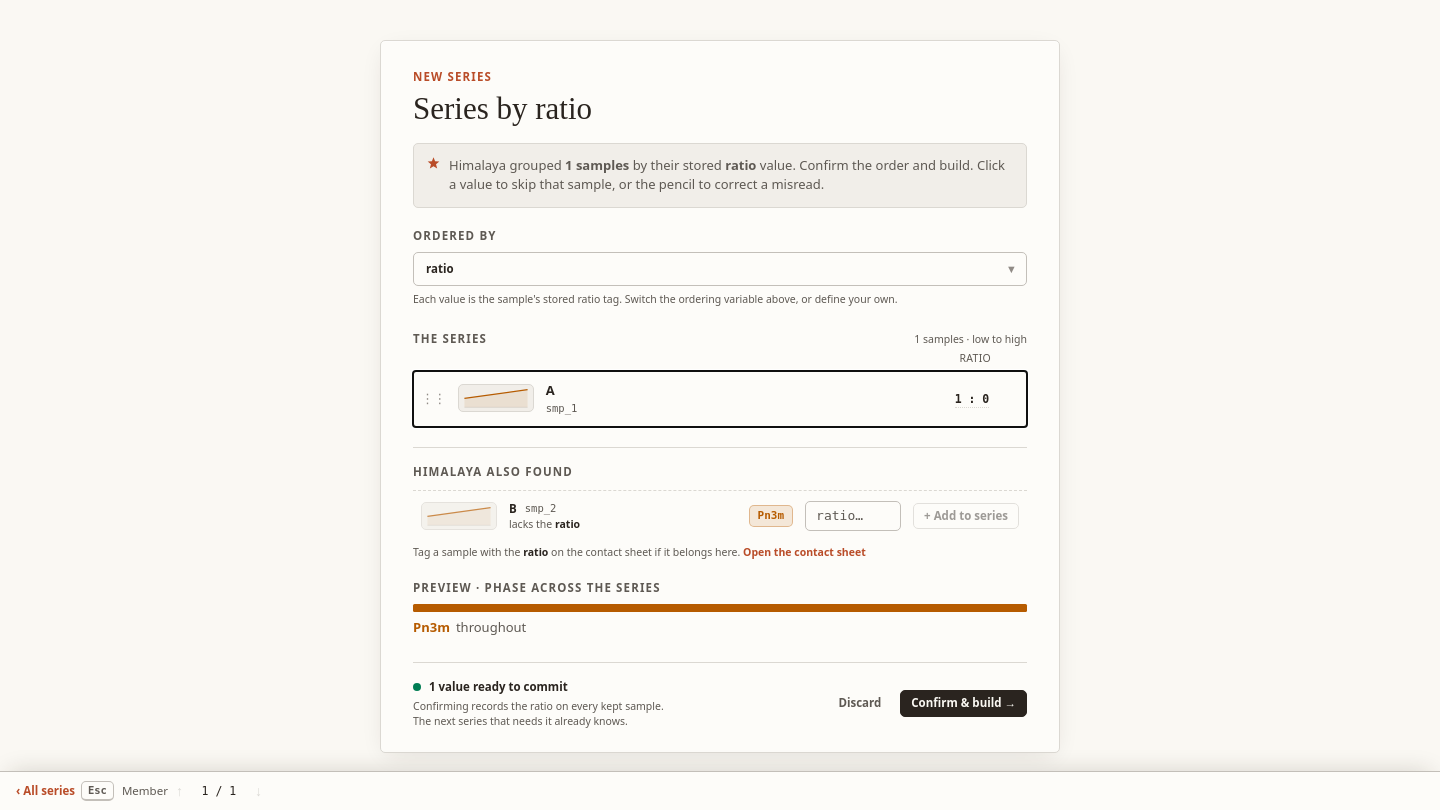
Scenario: SeriesScopingPage › renders candidates as informational discovery with no add control
Expected: the number of elements with test id "scope-sample-row" is 1, [413,371,1027,427]
Expected: the button "+ Add to series" is disabled, [913,503,1019,529]
Note: Naming a value folds B into the members.
Type "1 : 2" into the field named "value for B". click: coordinates (853, 516)
box: [816,506,890,526]
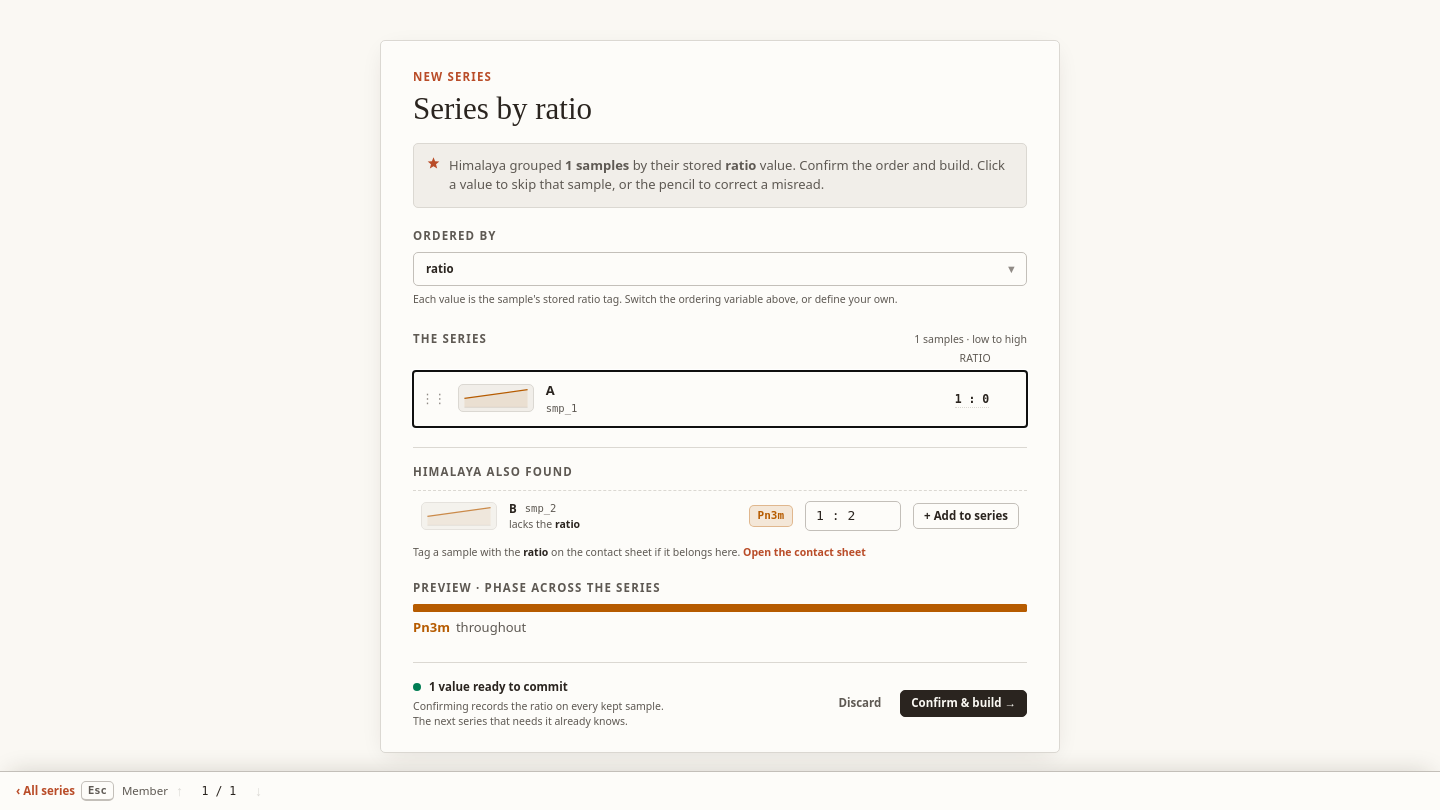
Click the button "+ Add to series". click: coordinates (966, 516)
box: [913,503,1019,529]
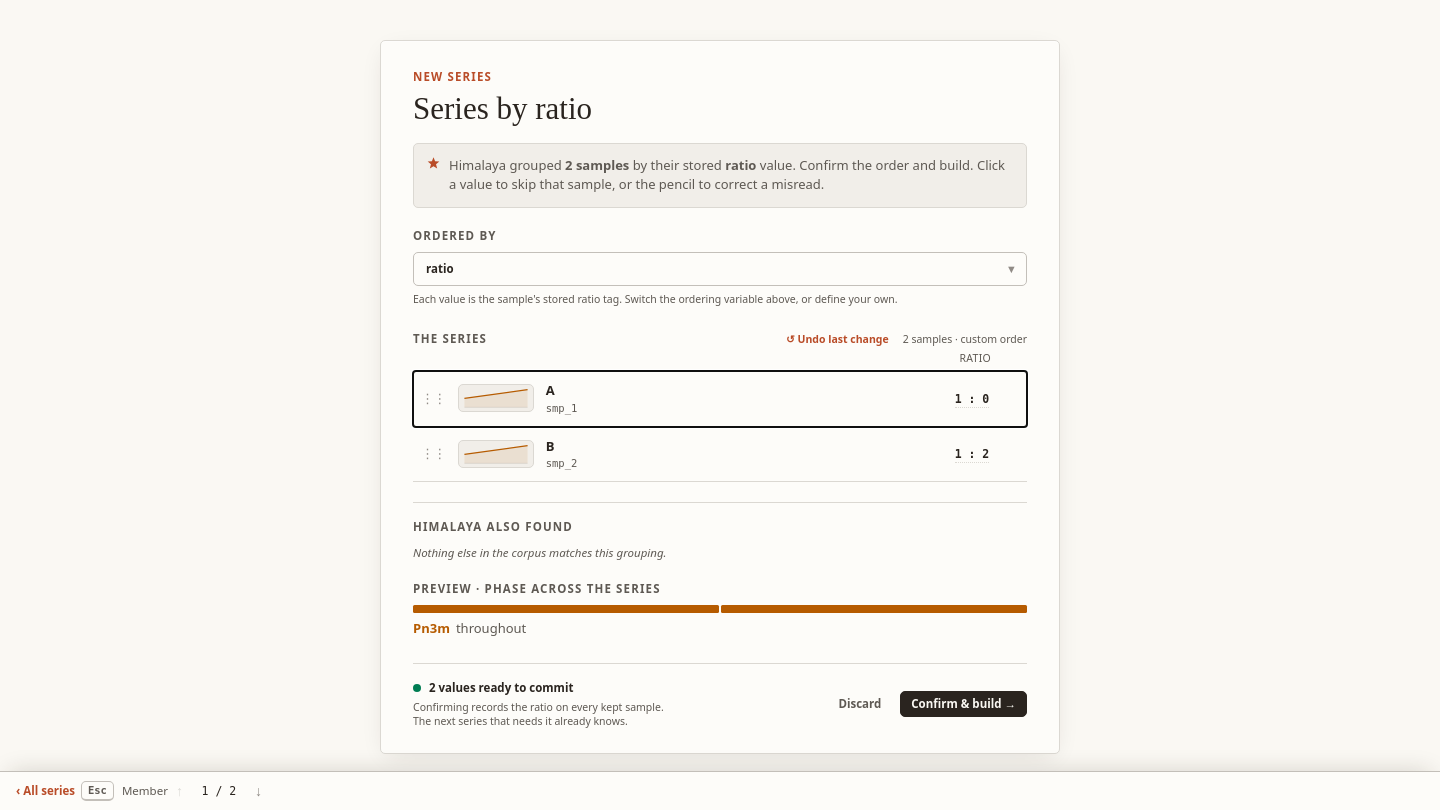
Expected: the number of elements with test id "scope-sample-row" is 2, [413,371,1027,427]; [413,427,1027,482]
